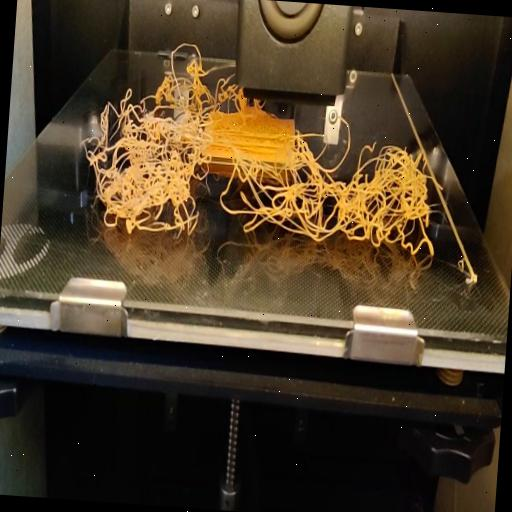spaghetti: (66, 86, 452, 266), (148, 34, 240, 100)
